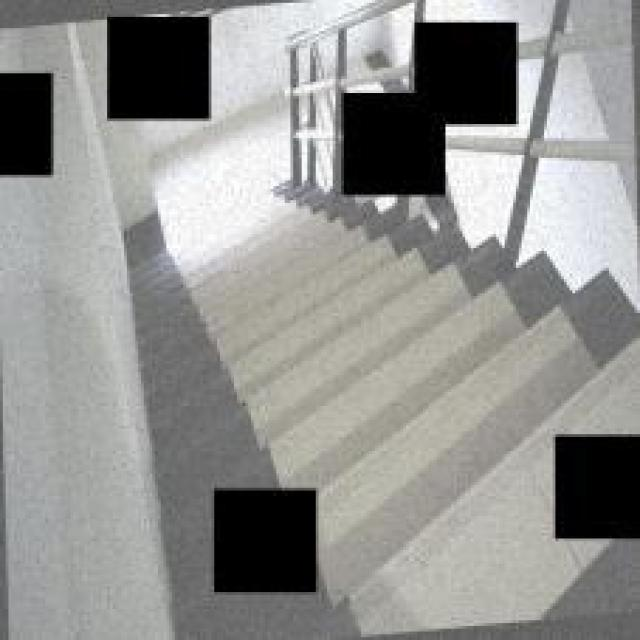downstair: (258, 210, 545, 480)
